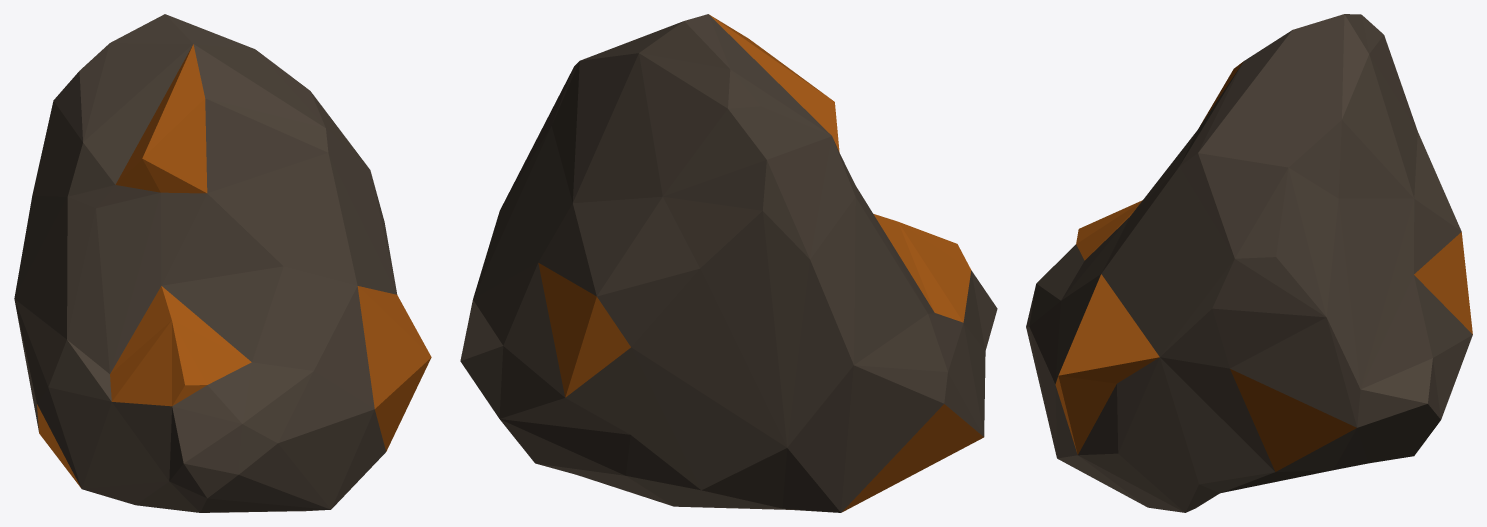
File: iron.dae
3 views of the same model, side by side, from view 1: azimuth 30°, elevation 25°; view 2: azimuth 150°, elevation 25°; view 3: azimuth 270°, elevation 25° (orthographic). The views are drawn at different scales.
Parts seen in each view (by area): view 1: Cube; view 2: Cube; view 3: Cube.
Boxes of the visible parts, box(x1,y1,x2,y2) form: Cube: box(14, 14, 431, 512); Cube: box(460, 14, 997, 512); Cube: box(1026, 14, 1472, 512).
Bounding box in the file's own units: 5.83 × 6.12 × 7.08.
